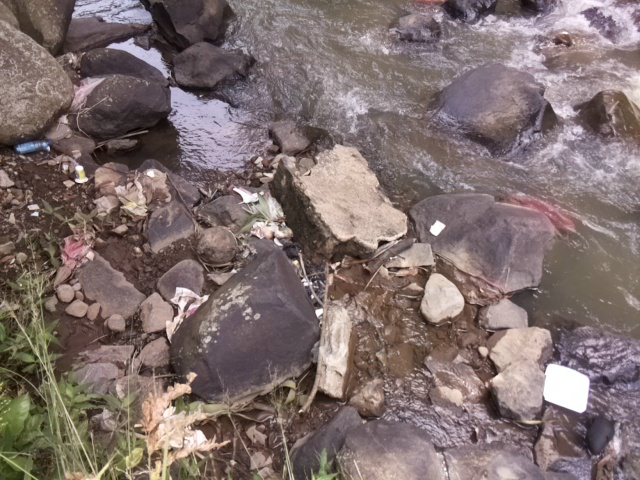Sampah_Botol_Plastik: (12, 140, 58, 154)
Sampah_Plastik: (238, 184, 294, 239), (60, 227, 98, 274), (69, 76, 106, 110)
Sampah_Styrofoam: (539, 360, 594, 415), (74, 164, 89, 183)
